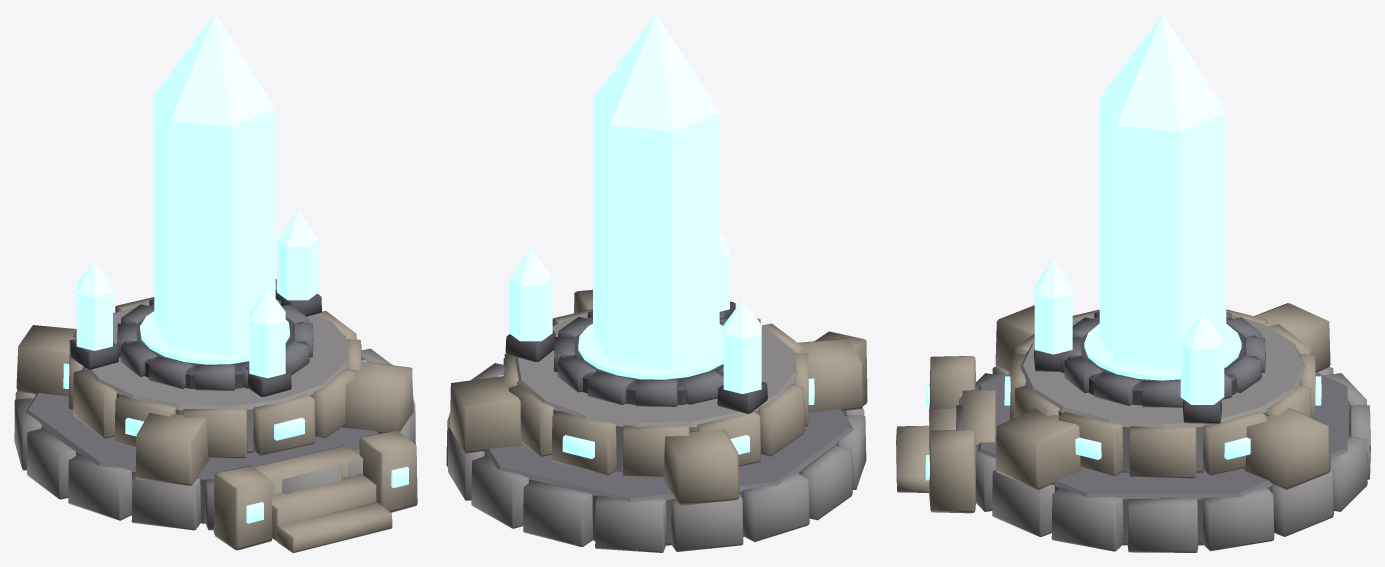
Rendered from OBJ03_crystal_beacon.glb.
3 views of the same model, side by side, from view 1: azimuth 30°, elevation 25°; view 2: azimuth 150°, elevation 25°; view 3: azimuth 270°, elevation 25° (orthographic). The views are drawn at different scales.
Visible parts, largest first — view 1: MainCrystal, LowerBlockFaces, UpperBlockFaces, UpperTier, LowerTier, BasinRimBlocks, CornerBlock_1, CornerBlock_0, StairPost_-1, StairPost_1, Step_2, CornerBlock_2 (+11 smaller); view 2: MainCrystal, LowerBlockFaces, UpperBlockFaces, LowerTier, UpperTier, BasinRimBlocks, CornerBlock_2, CornerBlock_3, CornerBlock_1, Shard_1, Shard_0, GlowPool (+6 smaller); view 3: MainCrystal, LowerBlockFaces, UpperBlockFaces, UpperTier, LowerTier, BasinRimBlocks, CornerBlock_0, CornerBlock_3, StairPost_1, Shard_1, Shard_2, CornerBlock_2 (+9 smaller).
Part boxes in pixels (x1,y1,x2,y2): MainCrystal: (154,14,275,354); LowerBlockFaces: (14,344,415,530); UpperBlockFaces: (68,297,361,458); UpperTier: (82,301,350,453); LowerTier: (25,359,378,523); BasinRimBlocks: (117,299,313,390); CornerBlock_1: (135,412,208,485); CornerBlock_0: (342,361,413,433); StairPost_-1: (213,465,272,550); StairPost_1: (359,430,417,512); Step_2: (276,502,392,552); CornerBlock_2: (16,325,76,396); MainCrystal: (593,14,719,369); LowerBlockFaces: (446,358,866,552); UpperBlockFaces: (504,309,808,477); LowerTier: (484,374,853,545); UpperTier: (515,314,797,472); BasinRimBlocks: (553,311,728,406); CornerBlock_2: (663,429,739,505); CornerBlock_3: (450,376,523,453); CornerBlock_1: (797,338,862,412); Shard_1: (509,248,552,341); Shard_0: (723,299,761,393); GlowPool: (578,324,723,379); MainCrystal: (1099,14,1226,369); LowerBlockFaces: (956,366,1370,552); UpperBlockFaces: (1010,309,1315,478); UpperTier: (1020,315,1305,472); LowerTier: (978,372,1348,545); BasinRimBlocks: (1060,312,1265,407); CornerBlock_0: (995,408,1082,489); CornerBlock_3: (1243,408,1330,489); StairPost_1: (929,430,975,513); Shard_1: (1180,311,1224,404); Shard_2: (1034,260,1072,354); CornerBlock_2: (1254,303,1330,372).
Size of the model in its own units: 1.9 by 2.29 by 2.17.
